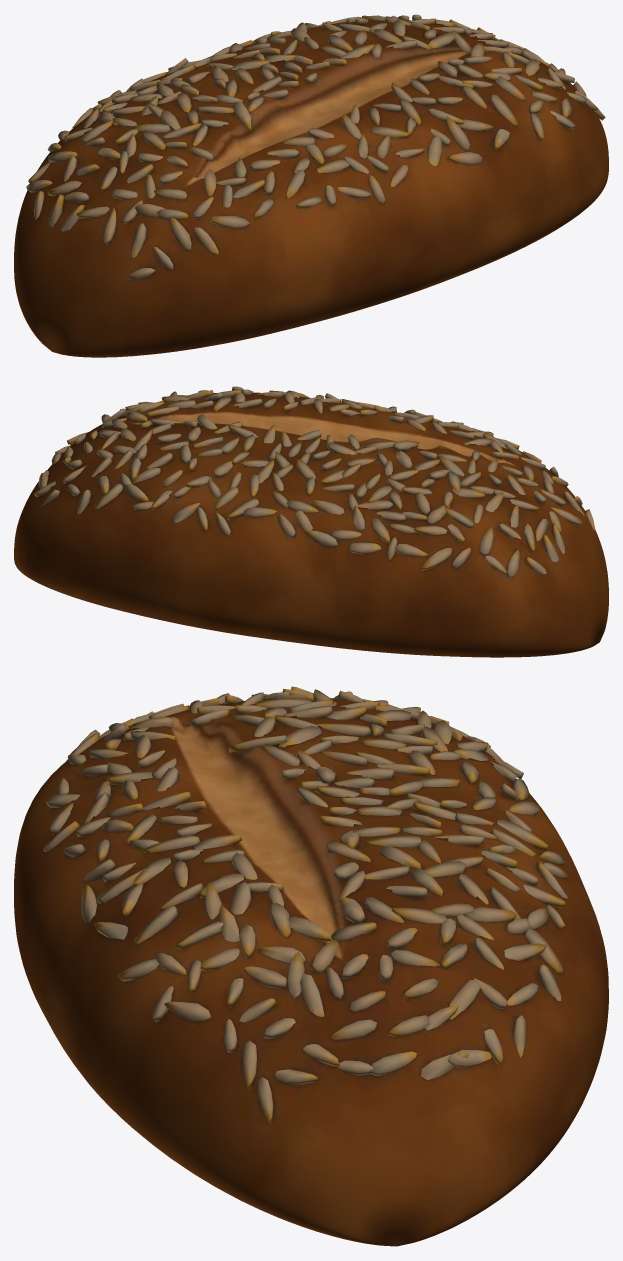
Rendered from rye--sunflowerseed-seed.glb.
The picture shows the model from 3 angles, top to bottom: view 1: azimuth 30°, elevation 25°; view 2: azimuth 150°, elevation 25°; view 3: azimuth 270°, elevation 25°; orthographic projection. The views are drawn at different scales.
Visible parts, largest first — view 1: rye_sunflowerseed-seed; view 2: rye_sunflowerseed-seed; view 3: rye_sunflowerseed-seed.
Part boxes in pixels (x1=…): rye_sunflowerseed-seed: x1=14, y1=14, x2=608, y2=357; rye_sunflowerseed-seed: x1=14, y1=386, x2=608, y2=657; rye_sunflowerseed-seed: x1=14, y1=686, x2=608, y2=1246.
Bounding box in the file's own units: 0.9927 × 0.303 × 0.6286.
Materials: 1 (1 with a texture image).
